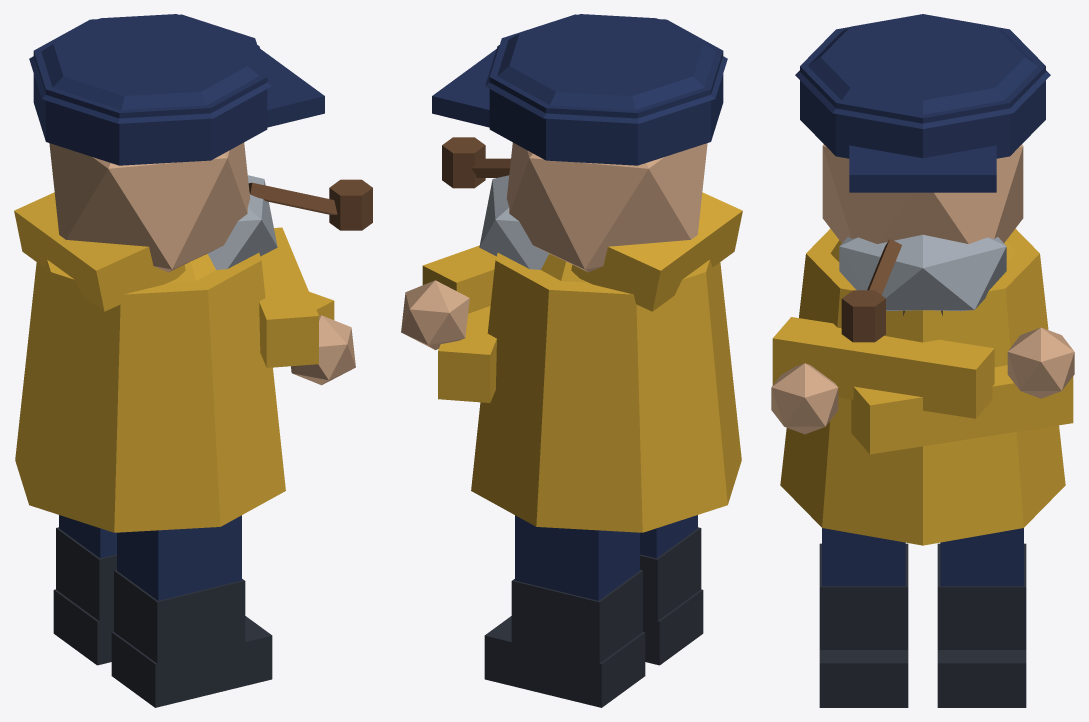
The model's file is marcel.glb.
The picture shows the model from 3 angles, left to right: view 1: azimuth 30°, elevation 25°; view 2: azimuth 150°, elevation 25°; view 3: azimuth 270°, elevation 25°; orthographic projection.
Visible parts, largest first — view 1: marcel; view 2: marcel; view 3: marcel.
Boxes of the visible parts, x1,y1,x2,y2 form: marcel: (14,14,372,707); marcel: (401,14,742,707); marcel: (771,14,1074,707).
Bounding box in the file's own units: 0.739 × 1.38 × 0.6161.
